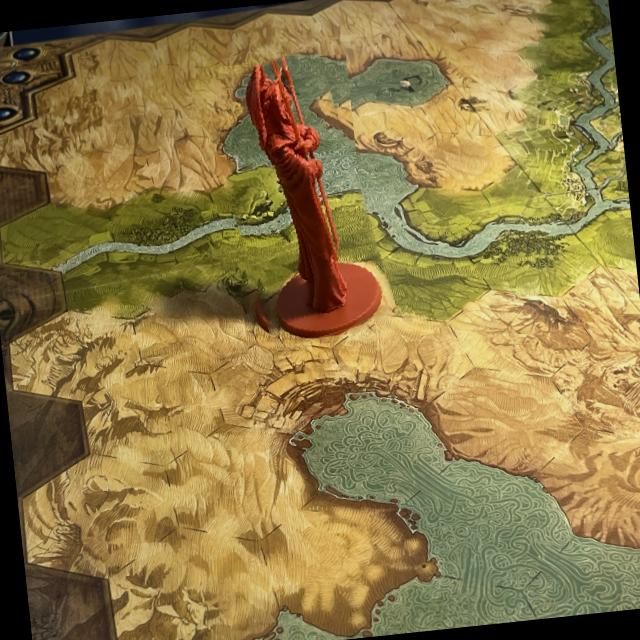amon: (204, 47, 388, 351)
